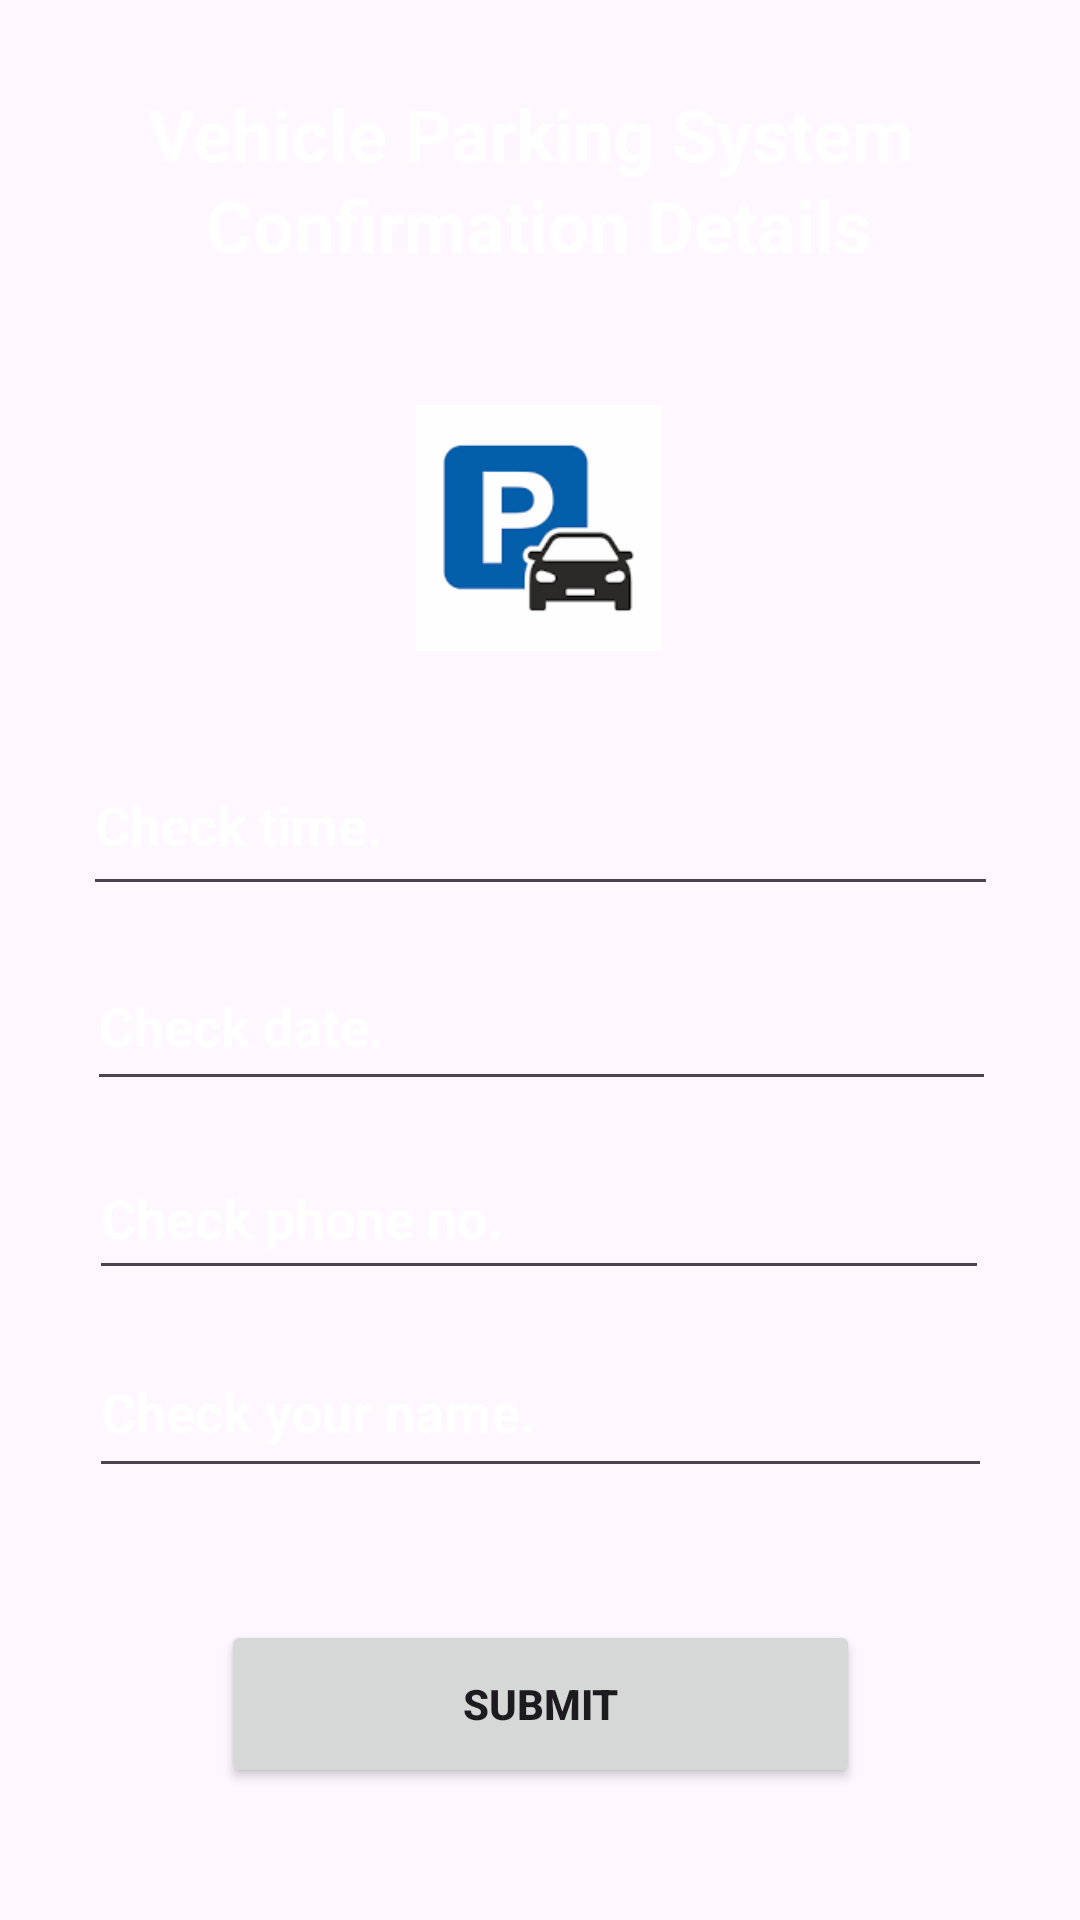

Where to tap for icons on this 1080px×1920px app screen, as (x=x, y=y):
vehicle: (x=538, y=528)
